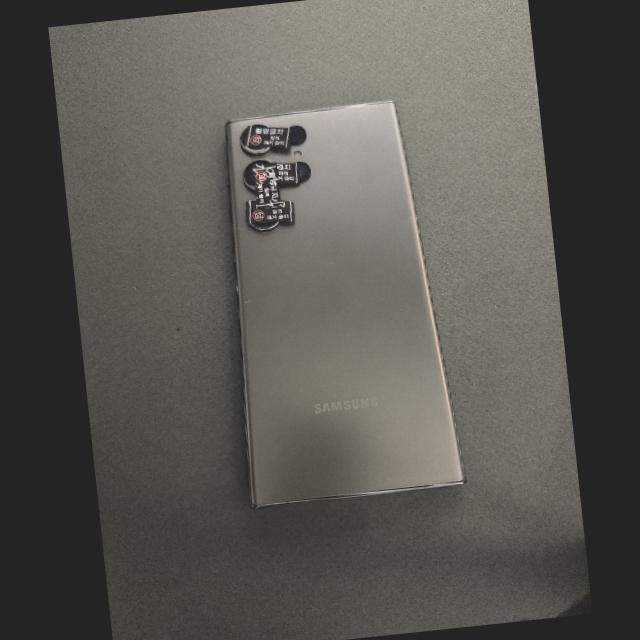lens: (240, 124, 270, 157), (244, 160, 272, 192), (290, 124, 306, 146), (249, 222, 277, 230)
phone: (226, 101, 465, 507)
sticker: (241, 123, 292, 153), (250, 162, 280, 208), (245, 200, 294, 224), (273, 163, 299, 186)
